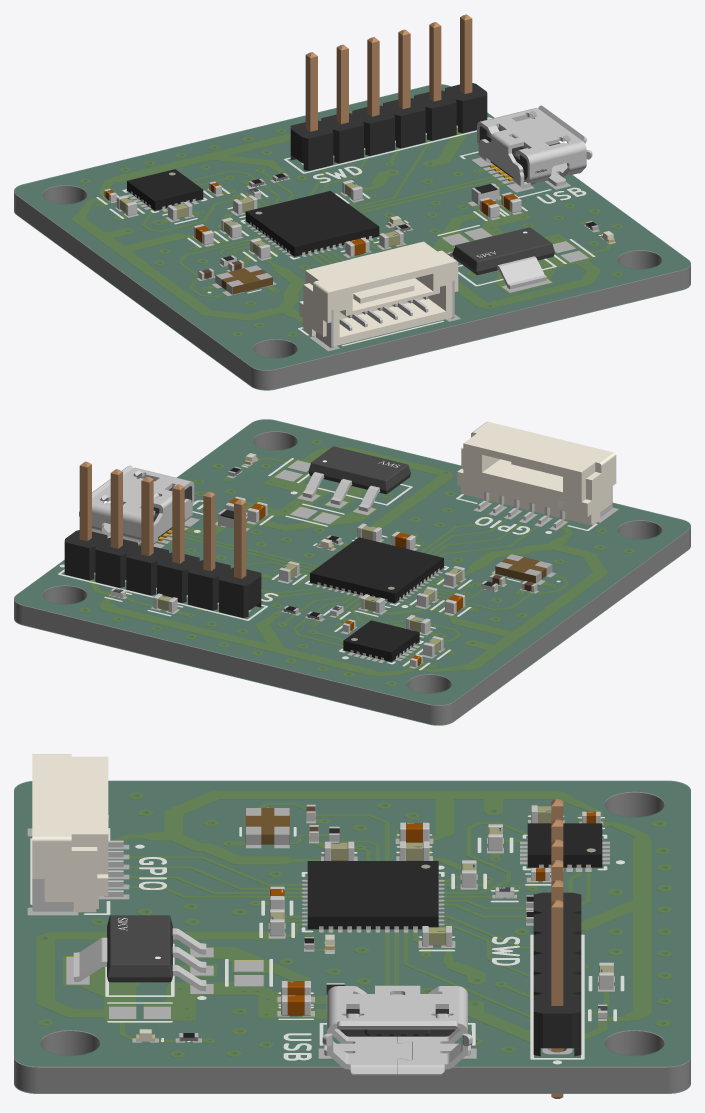
Rendered from stm32-board.glb.
3 views of the same model, one above another, from view 1: azimuth 30°, elevation 25°; view 2: azimuth 150°, elevation 25°; view 3: azimuth 270°, elevation 25° (orthographic). The views are drawn at different scales.
Visible parts, largest first — view 1: =>[0:1:1:27], =>[0:1:1:28], =>[0:1:1:23], SM06B-GHS-TB:1, J2, 473460001:1, 6130xx11121_PIN (×6), U2, 1:1 (×2), =>[0:1:1:24], =>[0:1:1:26], U3 (+2 smaller); view 2: =>[0:1:1:27], =>[0:1:1:28], =>[0:1:1:23], SM06B-GHS-TB:1, J2, 6130xx11121_PIN (×6), U2, 473460001:1, 1:1 (×2), =>[0:1:1:24], =>[0:1:1:26], U3 (+2 smaller); view 3: =>[0:1:1:27], =>[0:1:1:28], =>[0:1:1:23], 473460001:1, SM06B-GHS-TB:1, U2, J2, =>[0:1:1:24], =>[0:1:1:26], 1:1 (×2), U3, =>[0:1:1:4] (+5 smaller).
Boxes of the visible parts, bbox=[...] form: =>[0:1:1:27]: bbox=[14, 84, 690, 390]; =>[0:1:1:28]: bbox=[14, 85, 690, 389]; =>[0:1:1:23]: bbox=[73, 112, 622, 336]; SM06B-GHS-TB:1: bbox=[299, 241, 458, 346]; J2: bbox=[290, 83, 487, 170]; 473460001:1: bbox=[477, 105, 592, 188]; 6130xx11121_PIN (×6): bbox=[305, 14, 472, 131]; U2: bbox=[245, 191, 379, 256]; 1:1 (×2): bbox=[339, 227, 554, 330]; =>[0:1:1:24]: bbox=[103, 125, 615, 351]; =>[0:1:1:26]: bbox=[96, 117, 602, 346]; U3: bbox=[127, 169, 203, 210]; =>[0:1:1:27]: bbox=[14, 419, 690, 725]; =>[0:1:1:28]: bbox=[14, 420, 690, 724]; =>[0:1:1:23]: bbox=[80, 440, 633, 685]; SM06B-GHS-TB:1: bbox=[457, 421, 616, 525]; J2: bbox=[64, 530, 261, 617]; 6130xx11121_PIN (×6): bbox=[79, 461, 246, 578]; U2: bbox=[310, 537, 443, 603]; 473460001:1: bbox=[79, 465, 194, 544]; 1:1 (×2): bbox=[308, 446, 565, 527]; =>[0:1:1:24]: bbox=[94, 459, 618, 668]; =>[0:1:1:26]: bbox=[58, 458, 597, 670]; U3: bbox=[343, 620, 419, 661]; =>[0:1:1:27]: bbox=[14, 780, 690, 1093]; =>[0:1:1:28]: bbox=[14, 782, 690, 1093]; =>[0:1:1:23]: bbox=[36, 791, 671, 1057]; 473460001:1: bbox=[322, 985, 472, 1075]; SM06B-GHS-TB:1: bbox=[32, 754, 108, 912]; U2: bbox=[307, 861, 438, 929]; J2: bbox=[533, 892, 581, 1056]; =>[0:1:1:24]: bbox=[27, 813, 614, 1058]; =>[0:1:1:26]: bbox=[30, 807, 624, 1064]; 1:1 (×2): bbox=[104, 840, 172, 982]; U3: bbox=[527, 823, 602, 868]; =>[0:1:1:4]: bbox=[73, 928, 206, 991].
Size of what is drawn, in the model's own units: 0.0369 by 0.0115 by 0.036.
